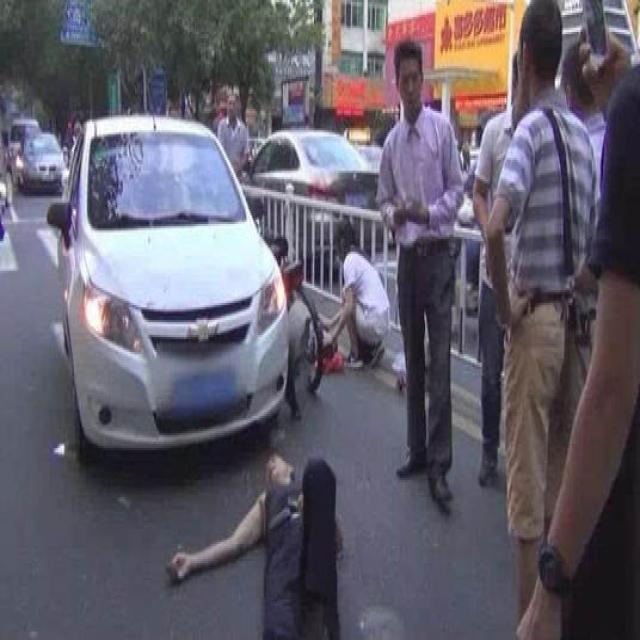fall: (204, 444, 342, 638)
